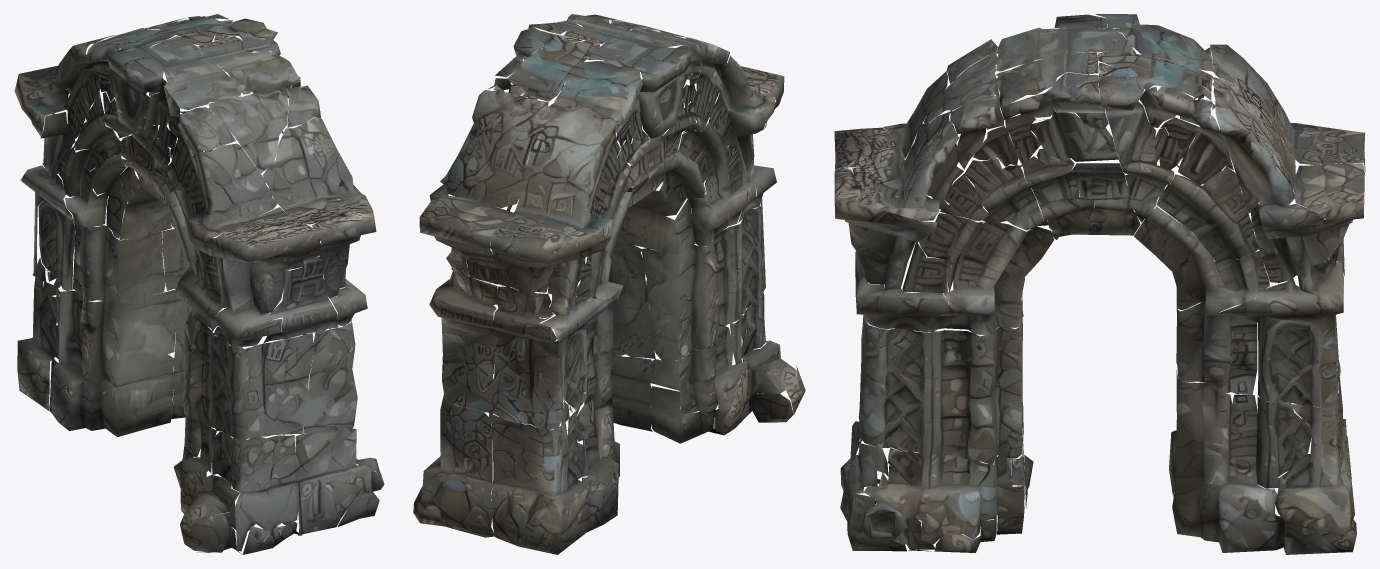
File: ruin_arch_portal_LOD2.glb
3 views of the same model, side by side, from view 1: azimuth 30°, elevation 25°; view 2: azimuth 150°, elevation 25°; view 3: azimuth 270°, elevation 25° (orthographic). The views are drawn at different scales.
Visible parts, largest first — view 1: tripo_node_d8a1d5da-c2f6-40ee-9562-3897e08a0c6e; view 2: tripo_node_d8a1d5da-c2f6-40ee-9562-3897e08a0c6e; view 3: tripo_node_d8a1d5da-c2f6-40ee-9562-3897e08a0c6e.
Boxes of the visible parts, x1=… form: tripo_node_d8a1d5da-c2f6-40ee-9562-3897e08a0c6e: x1=14, y1=14, x2=384, y2=554; tripo_node_d8a1d5da-c2f6-40ee-9562-3897e08a0c6e: x1=413, y1=14, x2=805, y2=554; tripo_node_d8a1d5da-c2f6-40ee-9562-3897e08a0c6e: x1=834, y1=14, x2=1365, y2=554.
Size of the model in its own units: 0.459 by 0.9959 by 1.
Materials: 1 (1 with a texture image).
